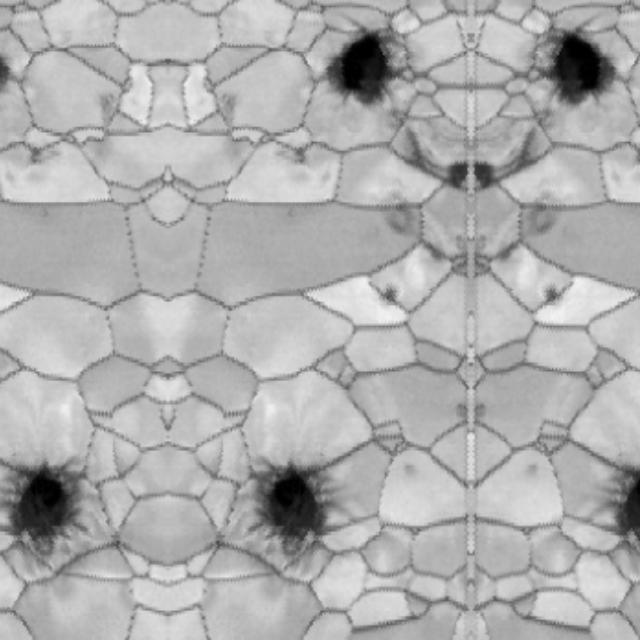good_void: (250, 443, 351, 578), (0, 443, 87, 578), (593, 449, 640, 578), (324, 61, 392, 104), (552, 61, 620, 104), (403, 118, 442, 175), (502, 118, 541, 175), (378, 191, 416, 241), (528, 191, 566, 241), (286, 140, 316, 170), (21, 140, 51, 170), (419, 238, 449, 265), (495, 238, 525, 265), (218, 88, 238, 125), (99, 88, 119, 125), (446, 399, 472, 426), (472, 399, 498, 426), (397, 455, 422, 481), (522, 455, 547, 481), (447, 159, 472, 184), (472, 159, 497, 184), (207, 528, 233, 552), (104, 528, 130, 552), (382, 283, 398, 306), (546, 283, 562, 306), (628, 144, 640, 168), (284, 208, 296, 219), (41, 208, 53, 219)
